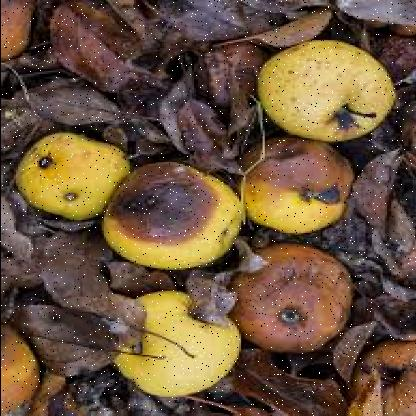damaged_apple: (103, 156, 247, 276), (262, 38, 396, 138), (114, 292, 242, 396), (238, 246, 348, 350), (21, 128, 138, 224), (240, 138, 354, 235)
